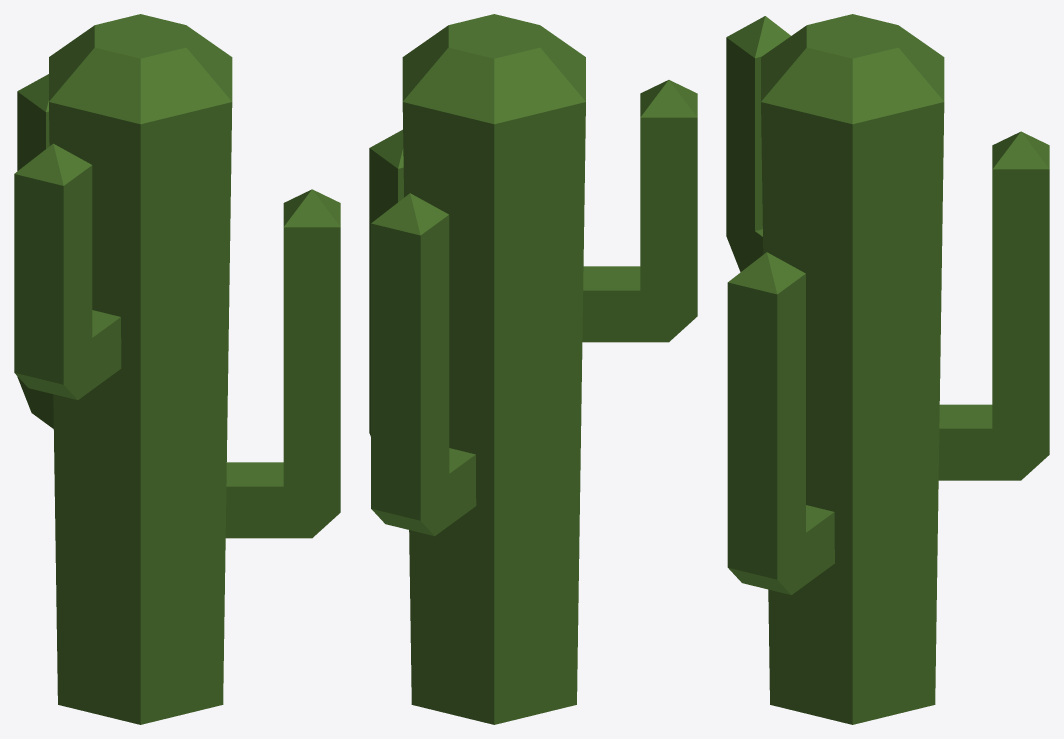
The model's file is cactus_tall.fbx.
3 views of the same model, side by side, from view 1: azimuth 30°, elevation 25°; view 2: azimuth 150°, elevation 25°; view 3: azimuth 270°, elevation 25° (orthographic).
Visible parts, largest first — view 1: cactus_tall; view 2: cactus_tall; view 3: cactus_tall.
Part boxes in pixels (x1=…): cactus_tall: x1=14, y1=14, x2=340, y2=724; cactus_tall: x1=369, y1=14, x2=697, y2=724; cactus_tall: x1=726, y1=14, x2=1049, y2=724.
Size of the model in its own units: 1.63 by 3.09 by 1.4.
